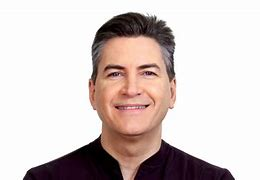person: (87, 10, 177, 143)
